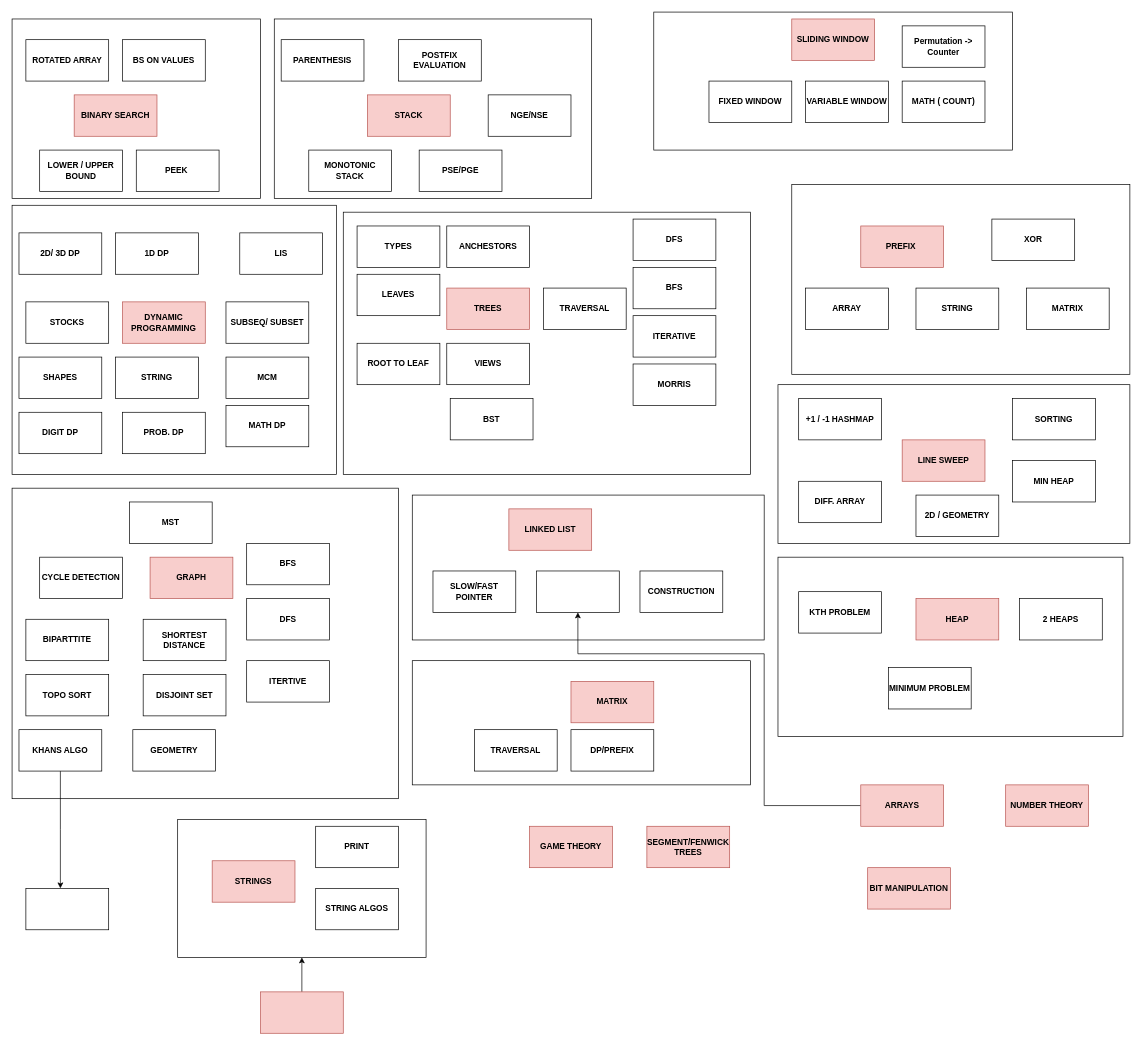
Image size: 1142x1045. Some labels were removed from this diagram. The shapes that lost their labels are listed below. From the top down, each one's centre as x and y in pixels, then its label:
the point at 577,591: 2 POINTER
the point at 67,909: INDEGREE(X) + INDEGREE(Y) - DUPLICATE_OCC
the point at 301,1012: TRIE
